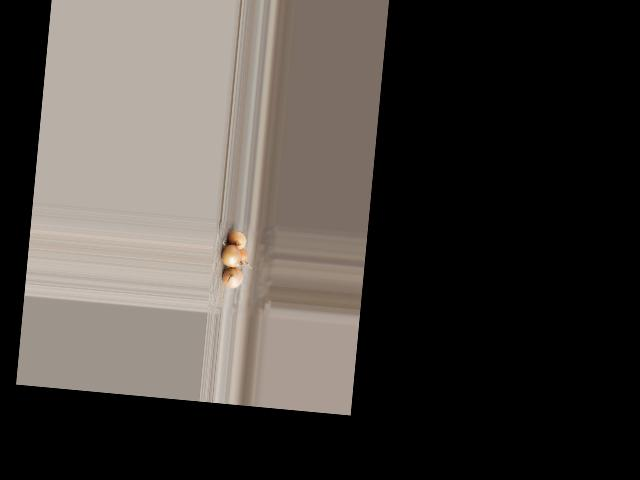onion: (233, 245, 249, 265)
